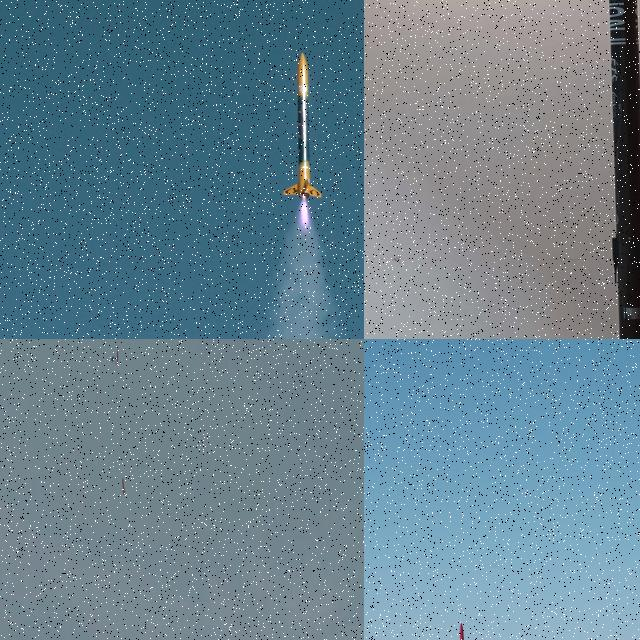Rocket: (609, 0, 640, 339), (282, 51, 324, 200), (122, 478, 126, 496)
